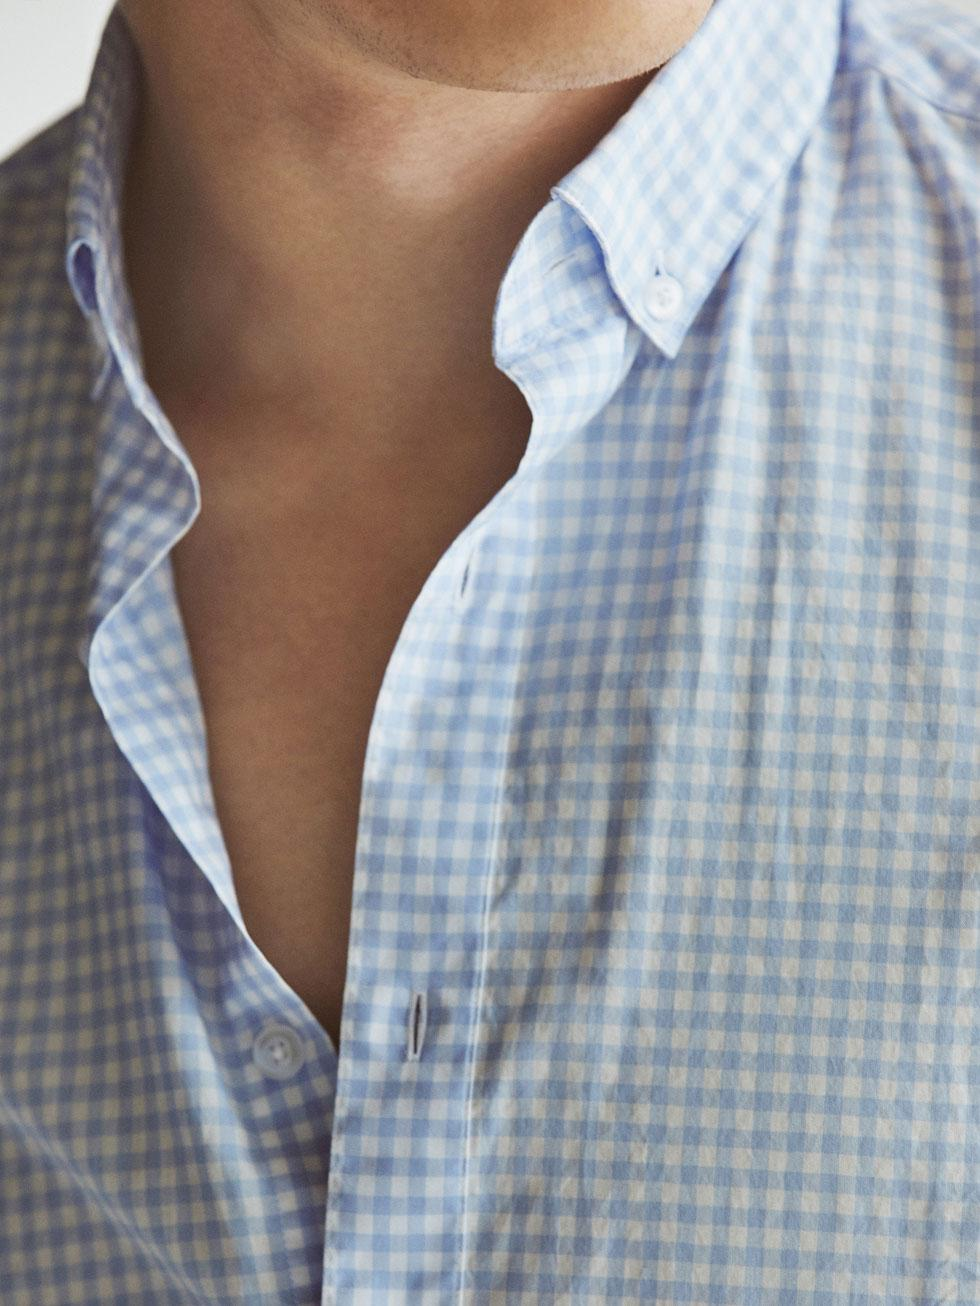teeshirt: (1, 5, 980, 1295)
